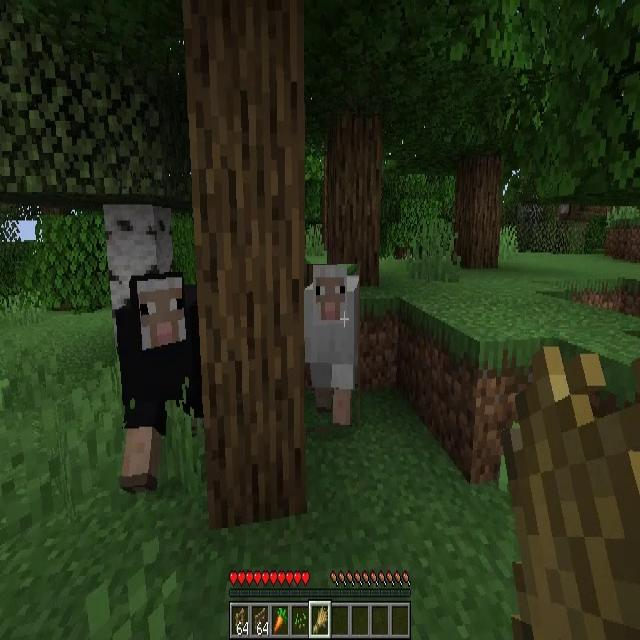sheep: (116, 271, 202, 491), (304, 264, 360, 427)
